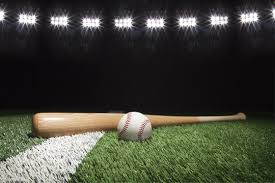baseball bat: (30, 109, 246, 139)
